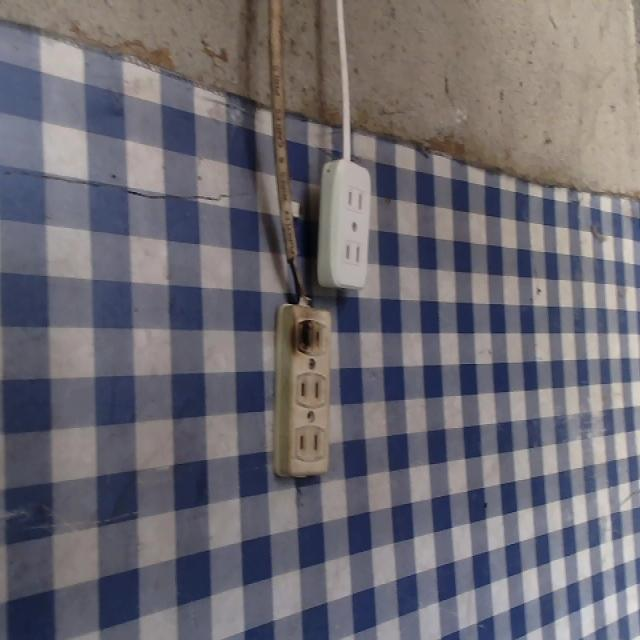-: (285, 312, 322, 364)
